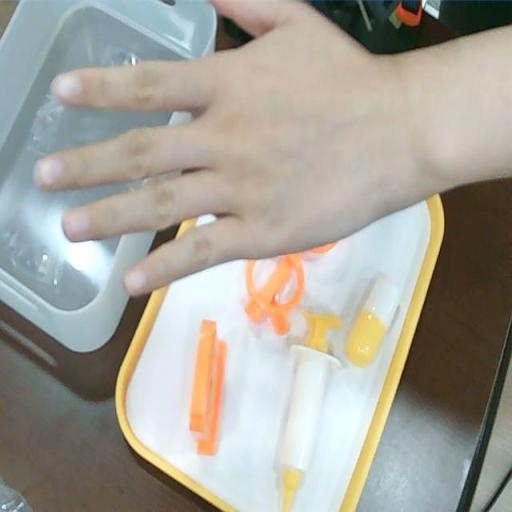hospital: (32, 2, 414, 299)
